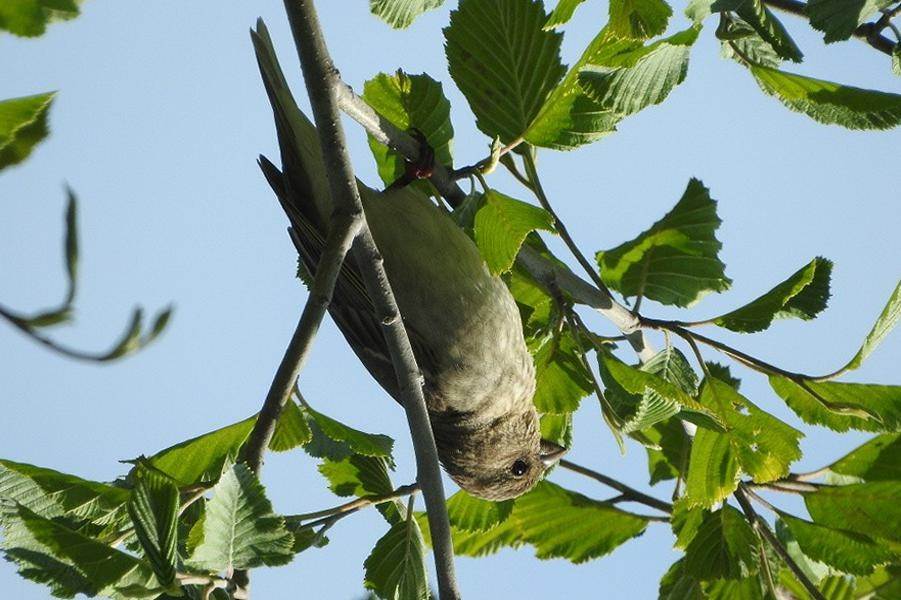rosefinch: (228, 49, 567, 493)
